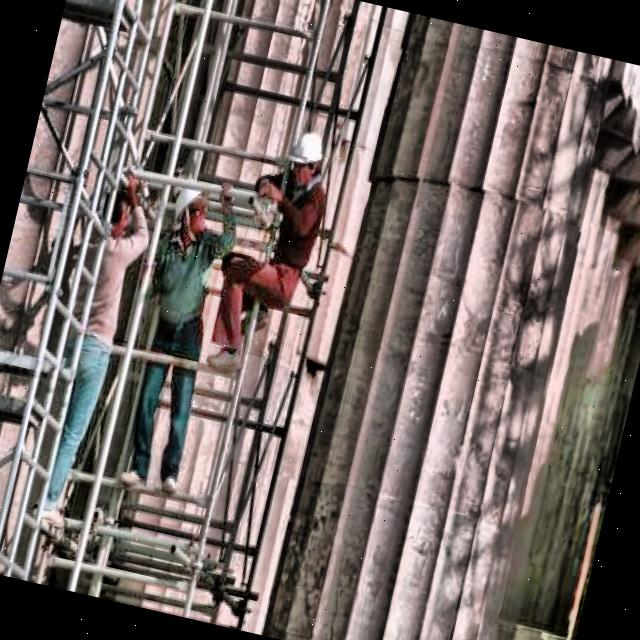helmet: (168, 174, 216, 240), (281, 125, 330, 186)
